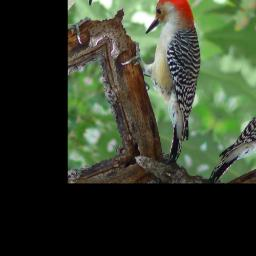Woodpecker: (91, 0, 246, 168)
